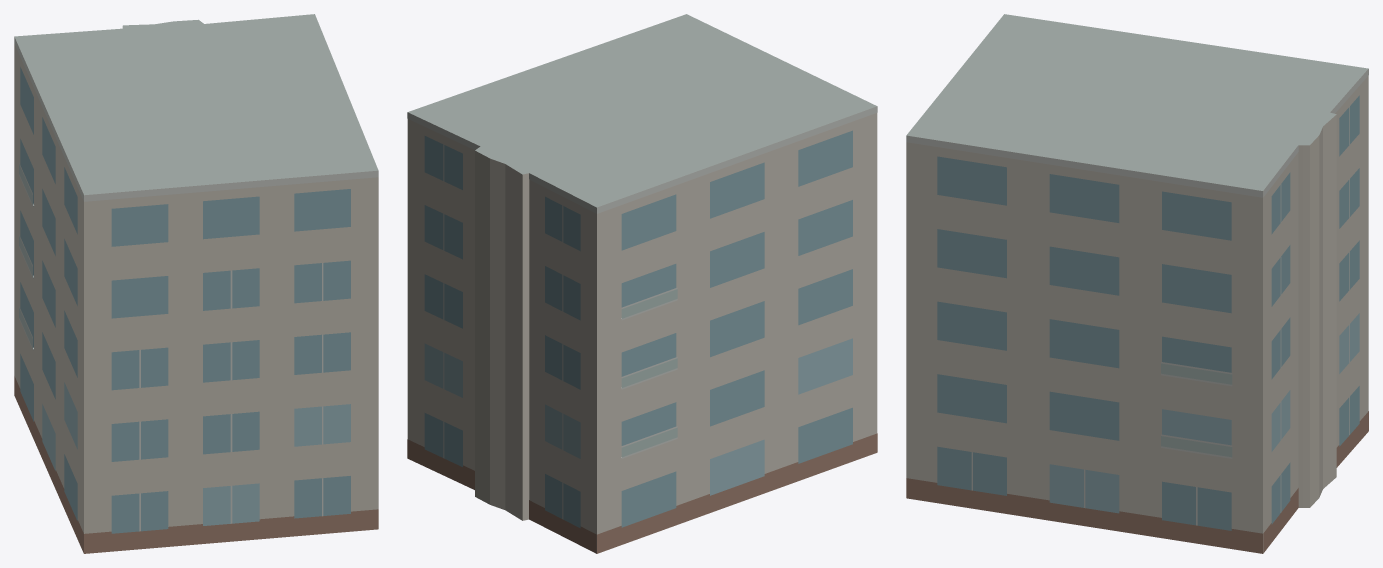
File: survey-upis-32894270.glb
The picture shows the model from 3 angles, left to right: view 1: azimuth 30°, elevation 25°; view 2: azimuth 150°, elevation 25°; view 3: azimuth 270°, elevation 25°; orthographic projection. The views are drawn at different scales.
Parts seen in each view (by area): view 1: survey-upis-32894270.tmp; view 2: survey-upis-32894270.tmp; view 3: survey-upis-32894270.tmp.
Boxes of the visible parts, <box> form: survey-upis-32894270.tmp: <box>14,14,378,553</box>; survey-upis-32894270.tmp: <box>407,14,877,553</box>; survey-upis-32894270.tmp: <box>906,14,1368,553</box>.
Bounding box in the file's own units: 13.83 × 13.2 × 15.26.
